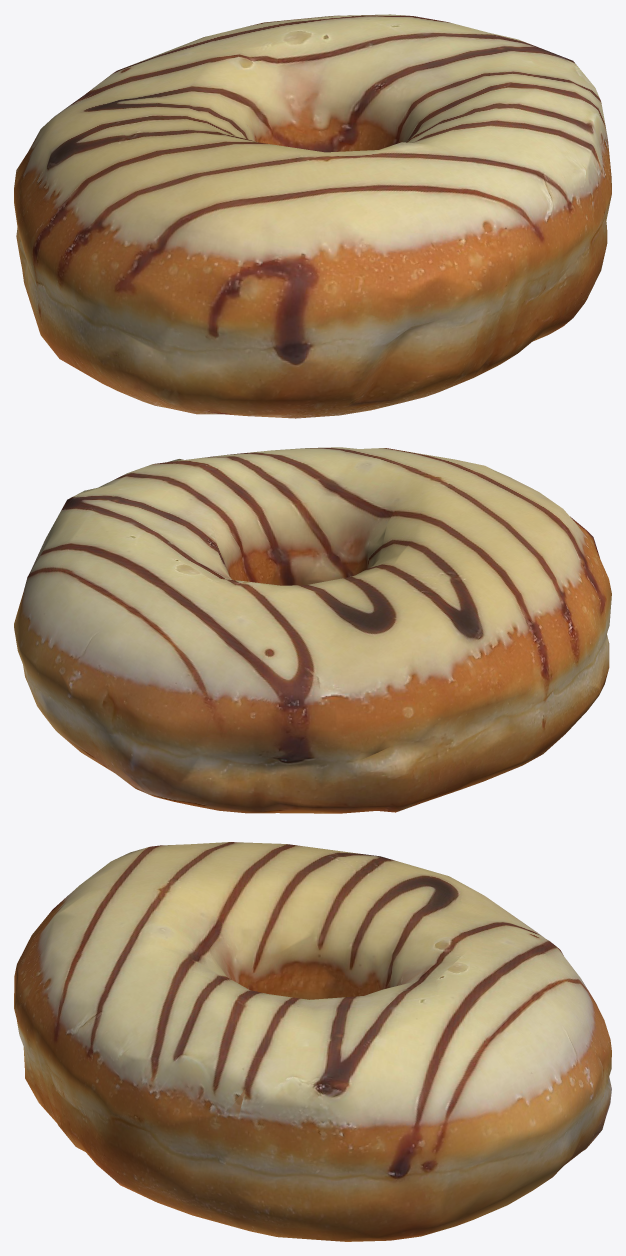
The model's file is donut.obj.
The picture shows the model from 3 angles, top to bottom: view 1: azimuth 30°, elevation 25°; view 2: azimuth 150°, elevation 25°; view 3: azimuth 270°, elevation 25°; orthographic projection. The views are drawn at different scales.
Size of the model in its own units: 2.31 by 0.9468 by 2.27.
